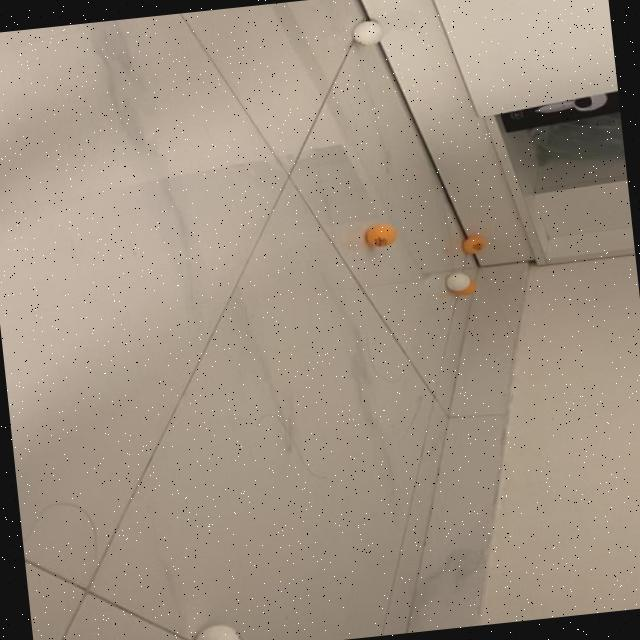ping-pong-ball: (362, 220, 401, 250), (348, 19, 384, 46), (188, 623, 244, 640), (449, 276, 478, 298), (458, 235, 488, 256), (444, 272, 471, 292)
